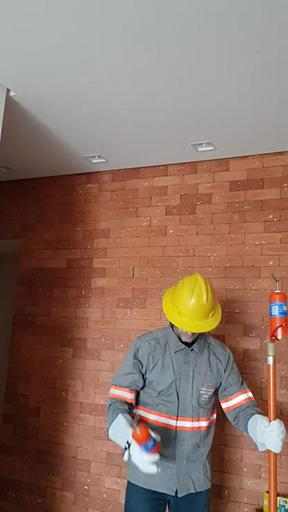Detector_Tensao_Contato: (266, 274, 288, 343)
Vara_Manobra: (268, 341, 278, 512)
